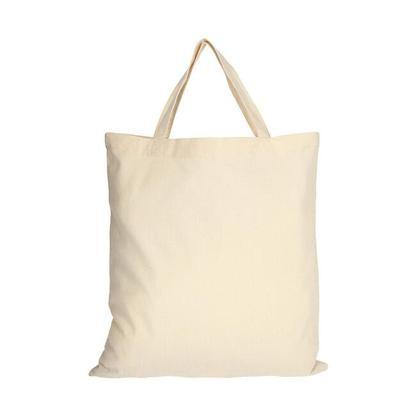not trash: (84, 40, 327, 386)
